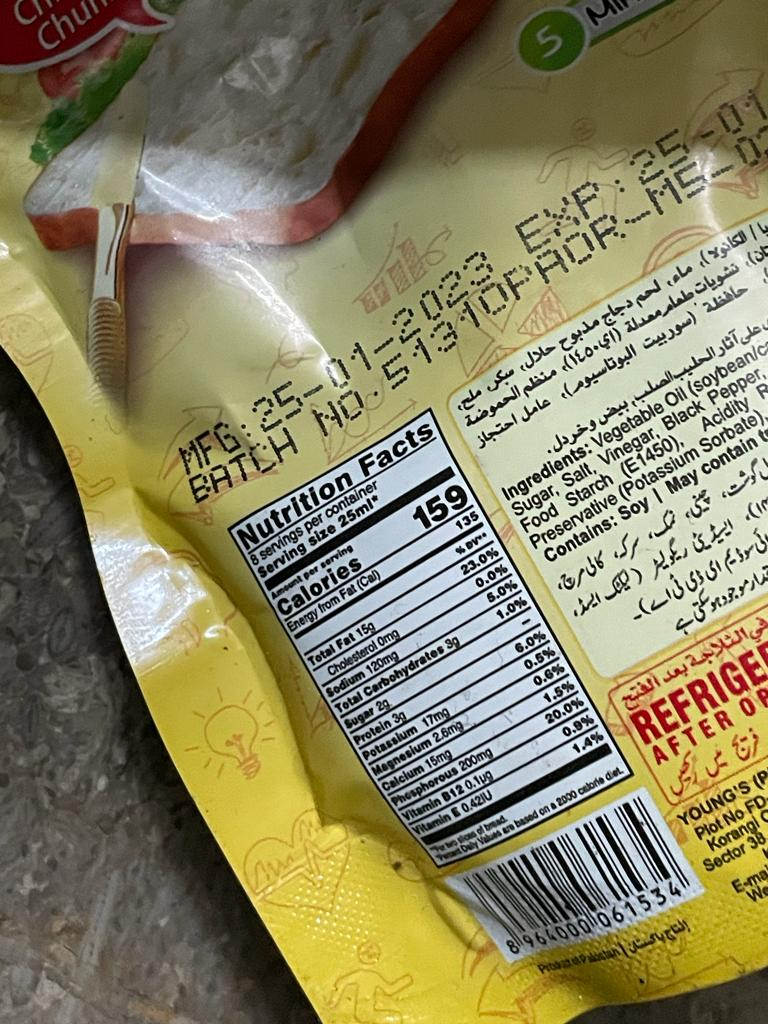table: (229, 407, 630, 870)
